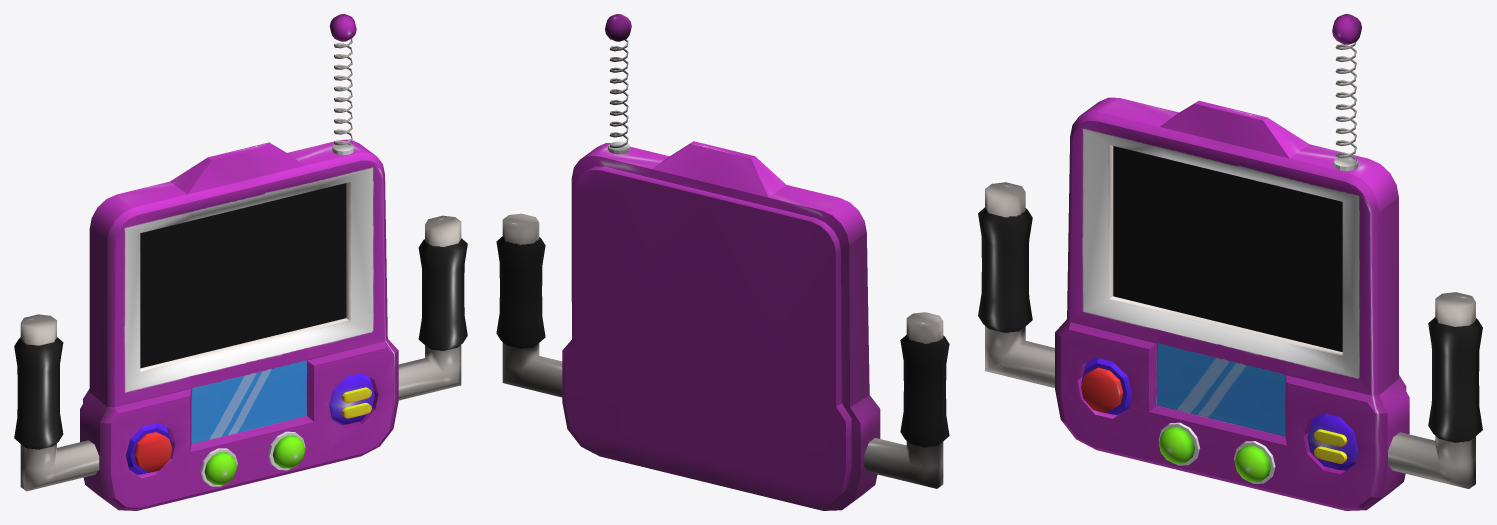
The model's file is scanner_06.fbx.
3 views of the same model, side by side, from view 1: azimuth 30°, elevation 25°; view 2: azimuth 150°, elevation 25°; view 3: azimuth 330°, elevation 25° (orthographic). The views are drawn at different scales.
Visible parts, largest first — view 1: Scanner_06; view 2: Scanner_06; view 3: Scanner_06.
Part boxes in pixels (box(x1,y1,x2,y2)): Scanner_06: box(14, 14, 467, 510); Scanner_06: box(496, 14, 949, 510); Scanner_06: box(978, 14, 1482, 510).
Size of the model in its own units: 7.47 by 6.99 by 1.08.
Materials: 1 (1 with a texture image).
